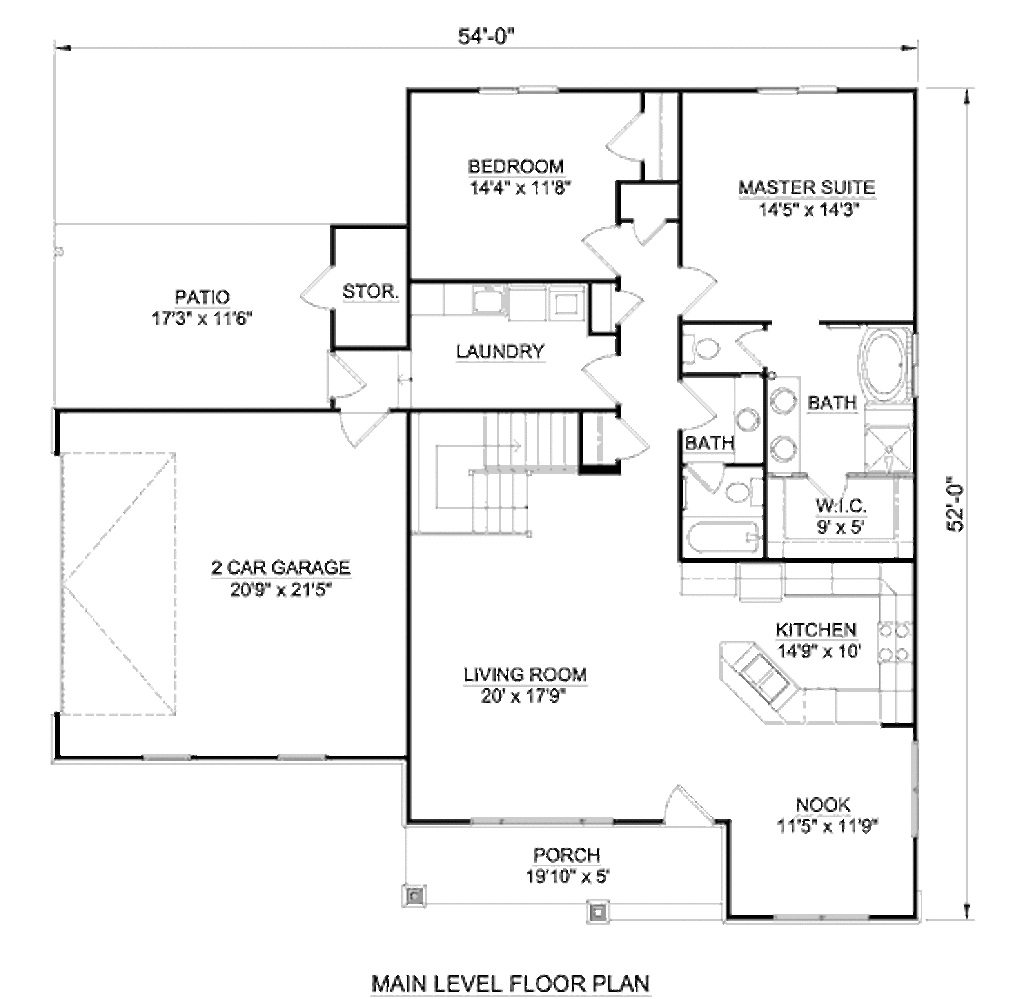door: (598, 101, 652, 167), (657, 778, 726, 827), (578, 209, 626, 278), (298, 250, 346, 313), (575, 343, 623, 404), (677, 261, 722, 321), (326, 403, 382, 450), (606, 409, 645, 464), (675, 386, 720, 433), (326, 352, 368, 401), (738, 323, 778, 369), (637, 207, 660, 246)
large_sink: (674, 327, 725, 367), (729, 475, 771, 510)
sink: (466, 276, 509, 315)
small_sink: (768, 375, 802, 470)
stairs: (405, 403, 585, 536)
tub: (854, 329, 917, 406), (682, 513, 765, 566)
twin_sink: (742, 638, 794, 714)
window: (465, 810, 620, 841), (763, 903, 875, 932), (471, 73, 555, 104), (129, 746, 200, 770), (908, 735, 923, 841), (275, 747, 329, 769), (760, 83, 837, 96)
